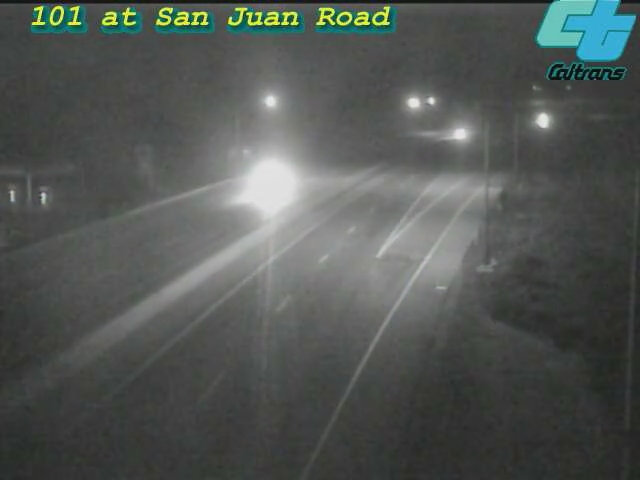vehicle: (234, 142, 314, 222), (432, 110, 482, 160), (518, 95, 568, 145)
